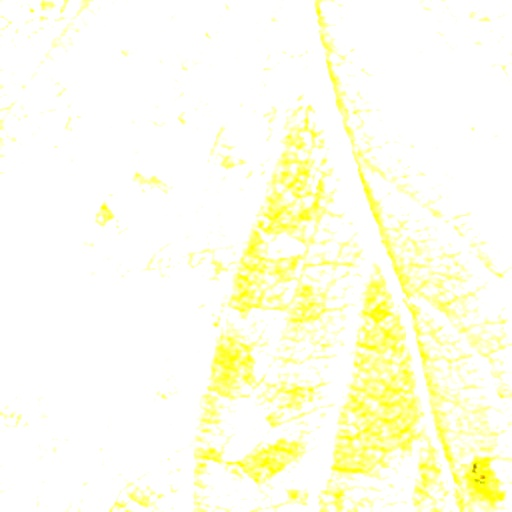Angular Leafspot: (0, 23, 511, 511)
